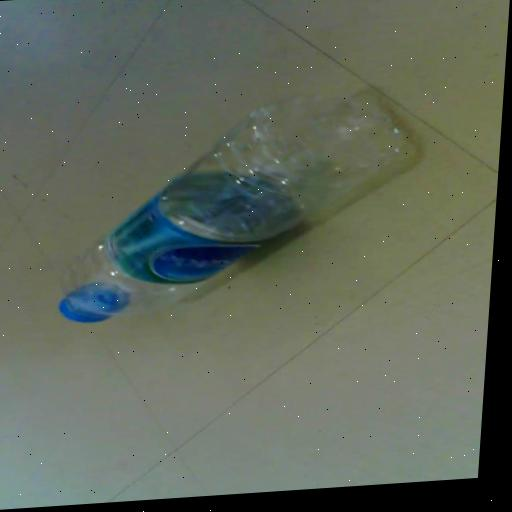bottle: (33, 69, 433, 340)
